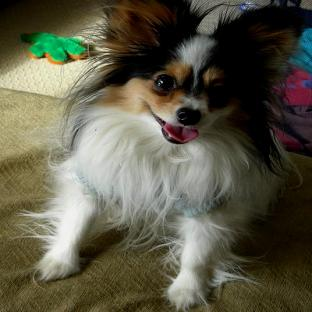Animal: (30, 0, 302, 309)
